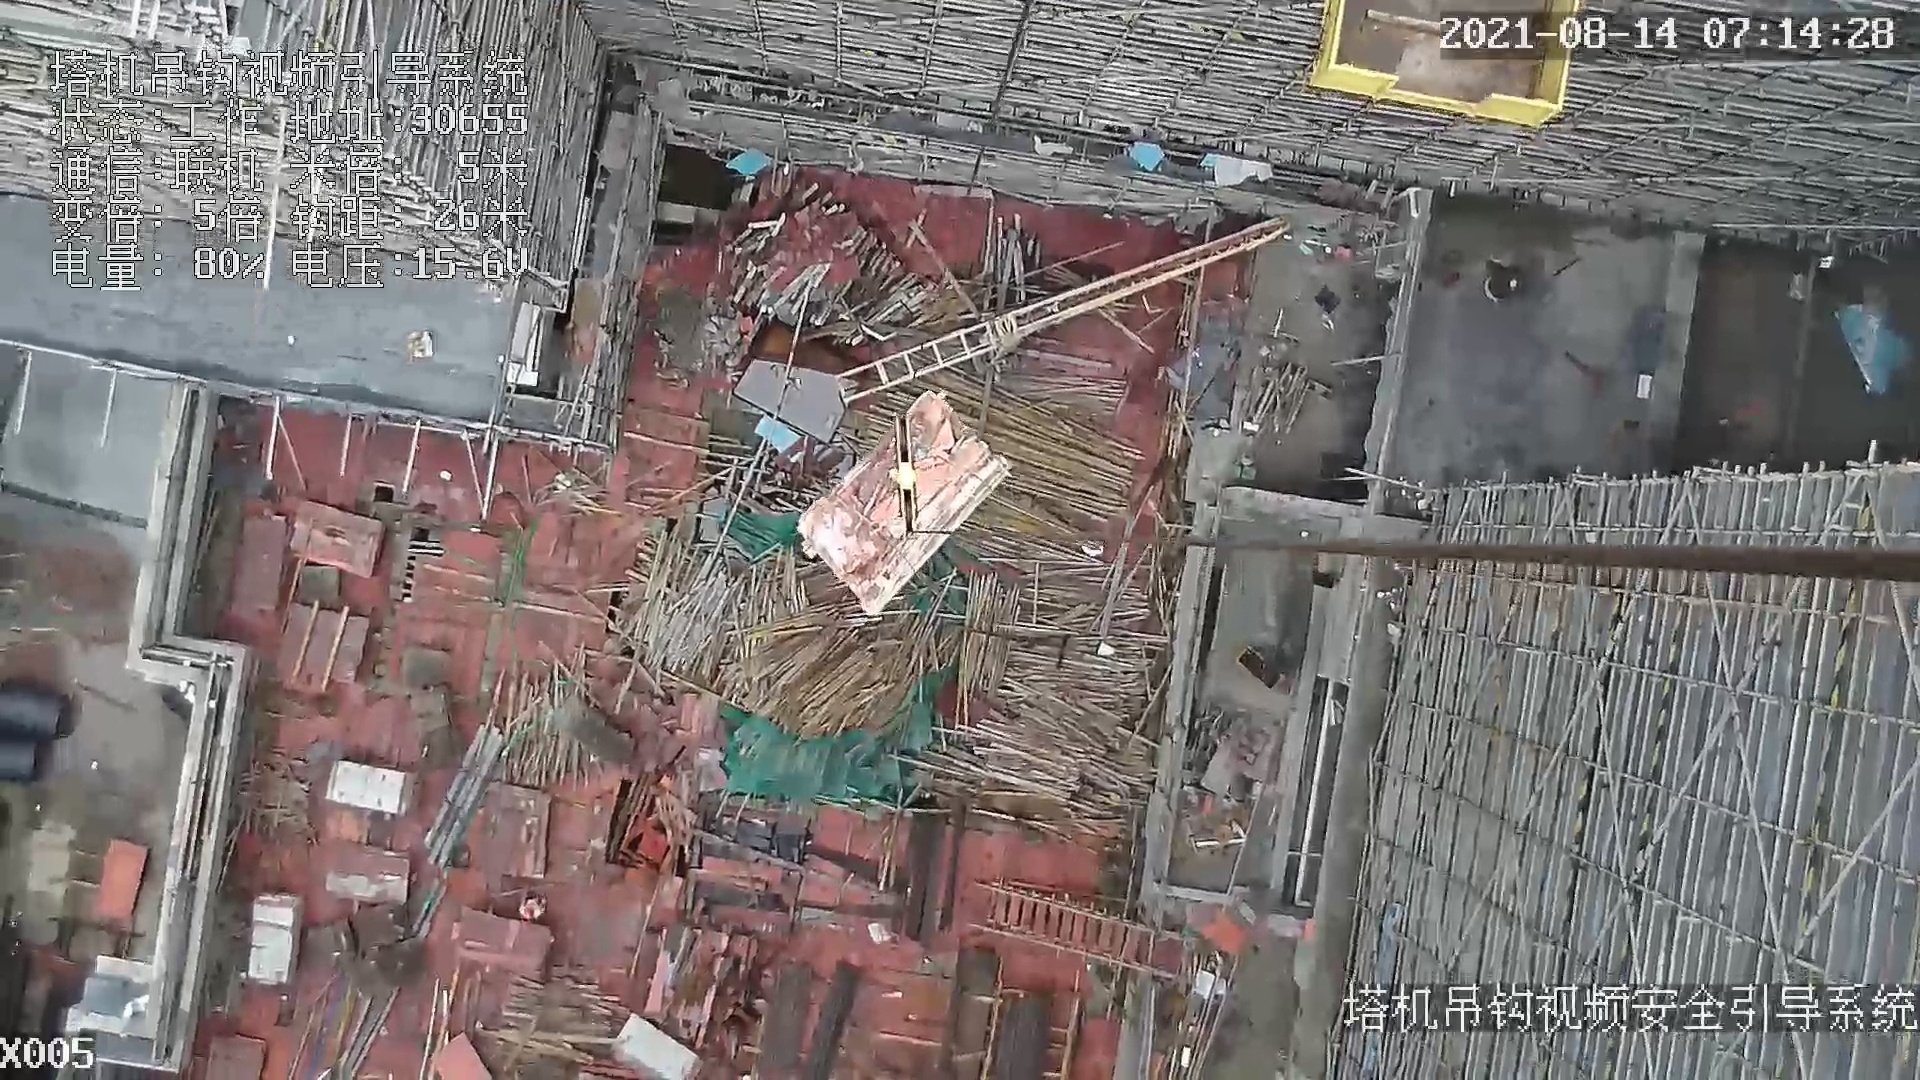hook: (885, 406, 938, 542)
